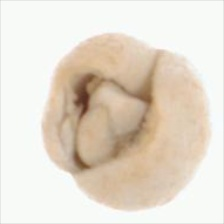L3: (61, 69, 163, 173)
L4: (39, 32, 212, 212)
